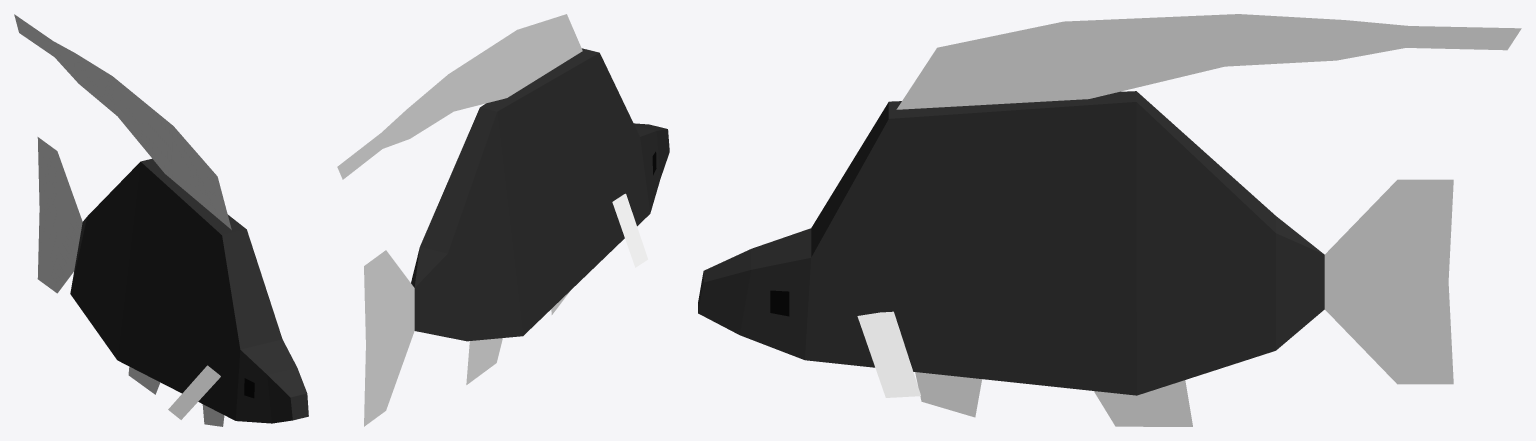
Rendered from 17angelfish.fbx.
3 renders of one model, left to right at view 1: azimuth 30°, elevation 25°; view 2: azimuth 150°, elevation 25°; view 3: azimuth 270°, elevation 25°, orthographic. The views are drawn at different scales.
Parts seen in each view (by area): view 1: Tropical Fish 17; view 2: Tropical Fish 17; view 3: Tropical Fish 17.
Boxes of the visible parts, x1,y1,x2,y2 form: Tropical Fish 17: (14, 14, 308, 426); Tropical Fish 17: (337, 14, 669, 426); Tropical Fish 17: (698, 14, 1521, 426).
Size of the model in its own units: 62.8 by 156 by 283.
